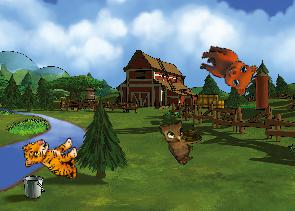bear: (193, 42, 260, 98)
owl: (154, 113, 204, 167)
tiger: (21, 132, 82, 186)
